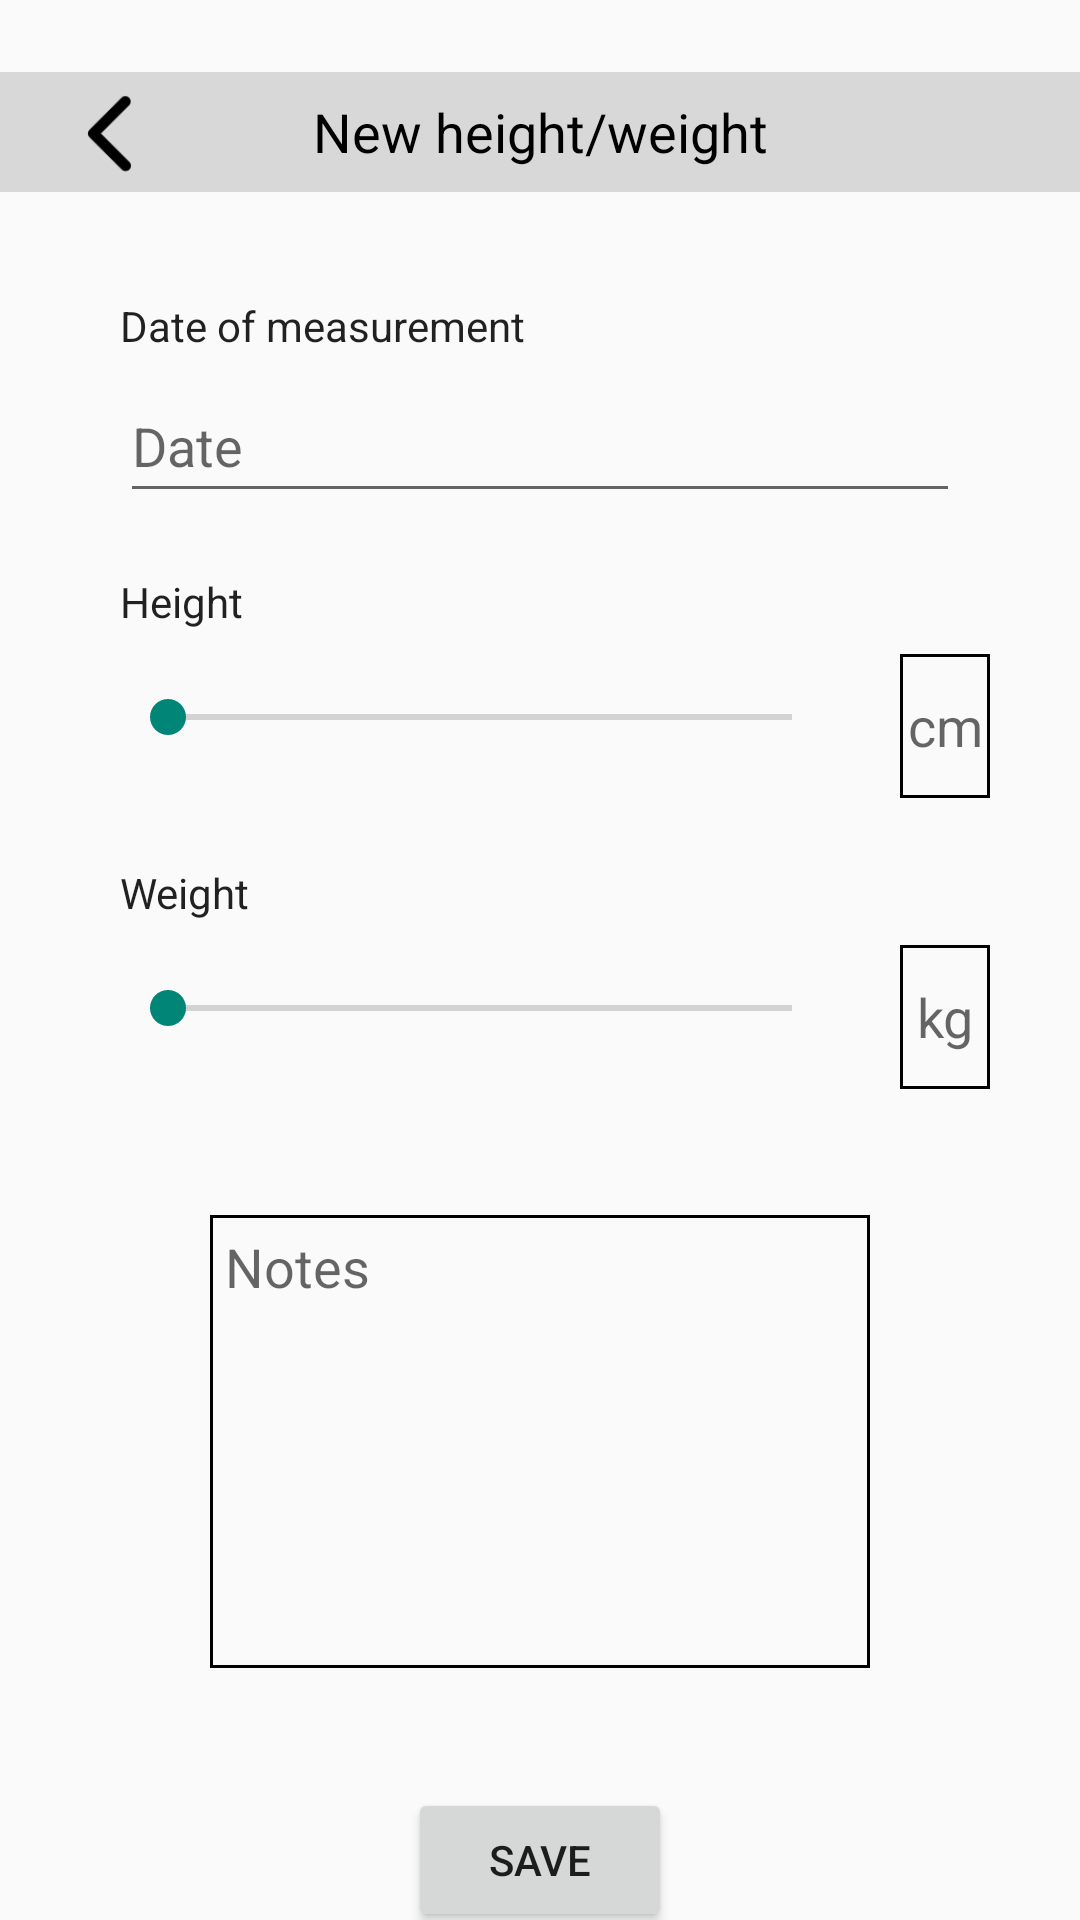

Icons on this 1080x1920 Android screen, each with its box as (x1=x1, y1=y1, x2=x2, y2=y2):
left: (x1=30, y1=72, x2=189, y2=192)
